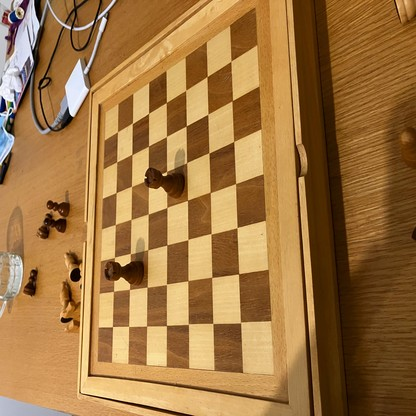bishop_white: (60, 282, 72, 323)
knight_white: (63, 300, 82, 321), (65, 321, 80, 334)
pawn_black: (23, 268, 37, 297), (44, 217, 67, 233), (47, 199, 69, 214), (38, 212, 50, 237)
queen_white: (64, 253, 80, 282)
rock_black: (145, 169, 184, 199), (105, 261, 144, 286)
